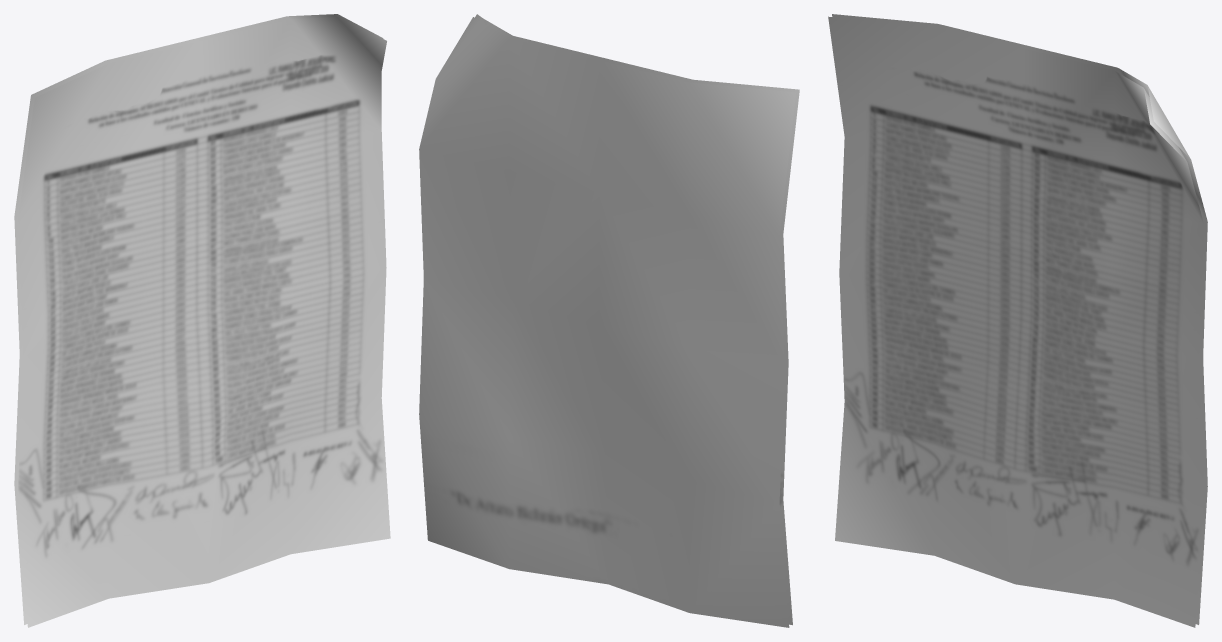
The model's file is Poster 1.FBX.
3 renders of one model, left to right at view 1: azimuth 30°, elevation 25°; view 2: azimuth 150°, elevation 25°; view 3: azimuth 330°, elevation 25°, orthographic.
Parts seen in each view (by area): view 1: Poster 1; view 2: Poster 1; view 3: Poster 1.
Boxes of the visible parts, box(x1,y1,x2,y2) form: Poster 1: box(14, 14, 390, 627); Poster 1: box(419, 14, 799, 627); Poster 1: box(828, 14, 1207, 627).
Size of the model in its own units: 26.11 by 36.72 by 4.2.
1 material, 1 textured.
